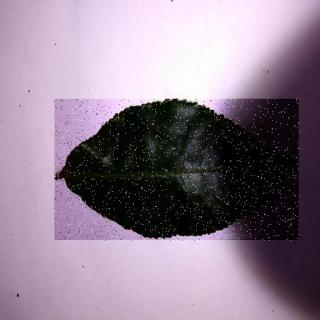Bird Eye Spot: (56, 101, 301, 243)
